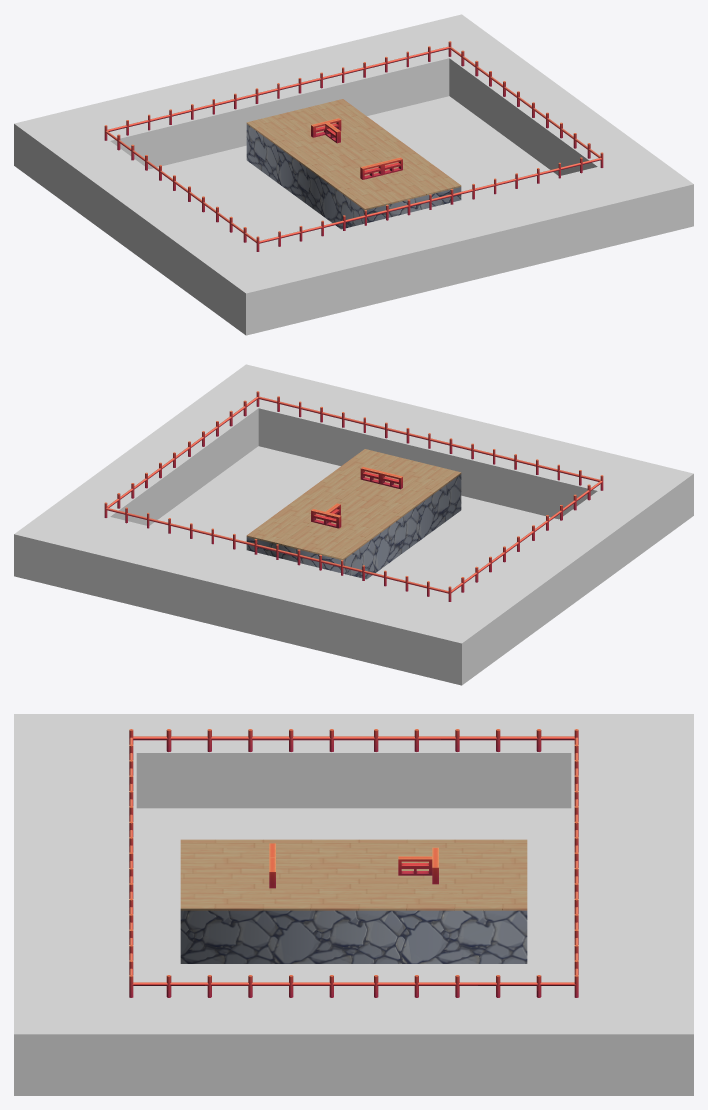
Rendered from Duel_Stage 24.fbx.
3 renders of one model, top to bottom at view 1: azimuth 30°, elevation 25°; view 2: azimuth 150°, elevation 25°; view 3: azimuth 270°, elevation 25°, orthographic. The views are drawn at different scales.
Parts seen in each view (by area): view 1: Platform_Cube__1_.003, Platform_Cube__1_.002, Cube.061, Cube.058; view 2: Platform_Cube__1_.003, Platform_Cube__1_.002, Cube.061, Cube.058; view 3: Platform_Cube__1_.003, Platform_Cube__1_.002, Cube.061, Cube.058.
Part boxes in pixels (x1,y1,x2,y2): Platform_Cube__1_.003: (14, 14, 693, 335); Platform_Cube__1_.002: (246, 99, 461, 229); Cube.061: (104, 41, 603, 251); Cube.058: (311, 118, 402, 179); Platform_Cube__1_.003: (14, 364, 693, 685); Platform_Cube__1_.002: (246, 449, 461, 579); Cube.061: (104, 391, 603, 601); Cube.058: (311, 466, 402, 528); Platform_Cube__1_.003: (14, 714, 693, 1095); Platform_Cube__1_.002: (180, 839, 527, 963); Cube.061: (129, 729, 578, 997); Cube.058: (269, 843, 438, 888).
Bounding box in the file's own units: 11138 × 1346 × 9999.
